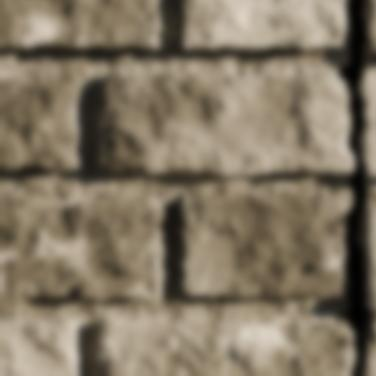brick: (0, 195, 167, 303), (182, 195, 343, 298), (183, 0, 345, 51), (0, 70, 82, 170), (0, 318, 79, 375), (72, 0, 162, 49), (0, 0, 73, 49), (364, 209, 375, 309), (366, 0, 375, 51), (60, 0, 73, 13), (318, 293, 340, 297)
broken_brick: (100, 71, 352, 176), (98, 319, 353, 375), (360, 79, 375, 178), (367, 330, 375, 375)
crack: (327, 0, 374, 375), (55, 0, 79, 49), (312, 290, 341, 296)
